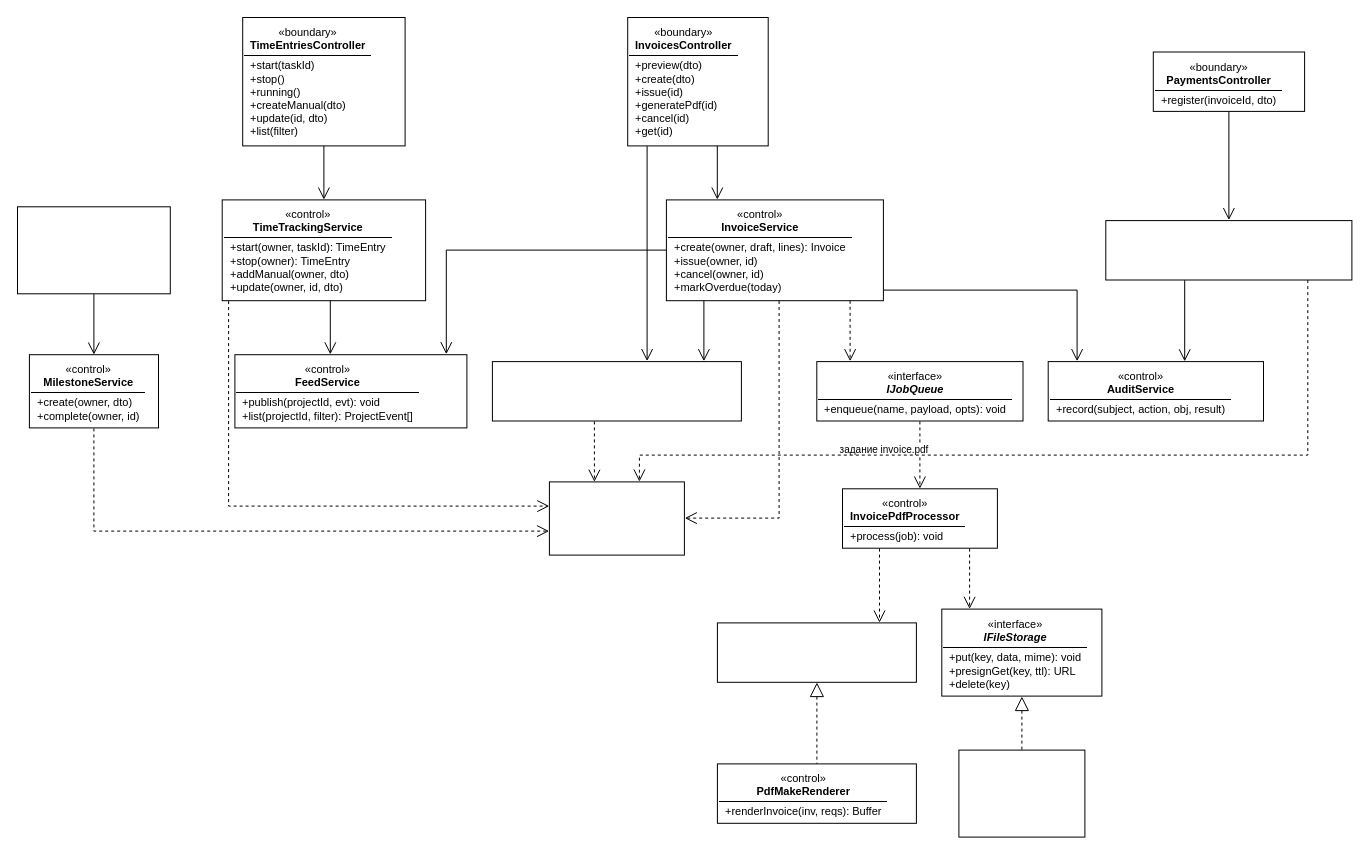
Some shapes in this 1370 by 855 pixel diagram are drawn without their labels. Here are the shapes that lost their labels. From the top down, the box of each, then its label:
(16, 206, 170, 294): «boundary» MilestonesController +list(projectId) +create(dto) +complete(id)
(1105, 220, 1352, 280): «control» PaymentService +register(owner, invoiceId, dto): Payment
(491, 361, 741, 421): «control» InvoiceComposer +preview(owner, projectId, period): Draft
(548, 481, 684, 555): «control» PrismaService +$transaction(fn) +<model>.findMany(...)
(716, 622, 916, 682): «interface» IPdfRenderer +renderInvoice(inv, reqs): Buffer
(958, 749, 1085, 837): «control» S3FileStorage +put(...) +presignGet(...) +delete(...)
